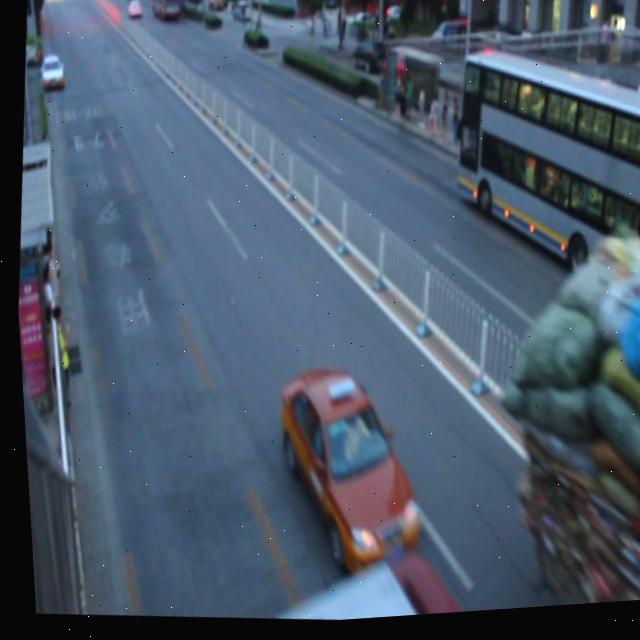bus: (496, 237, 640, 615)
car: (259, 362, 431, 573)
van: (438, 45, 640, 318), (224, 539, 494, 630)
